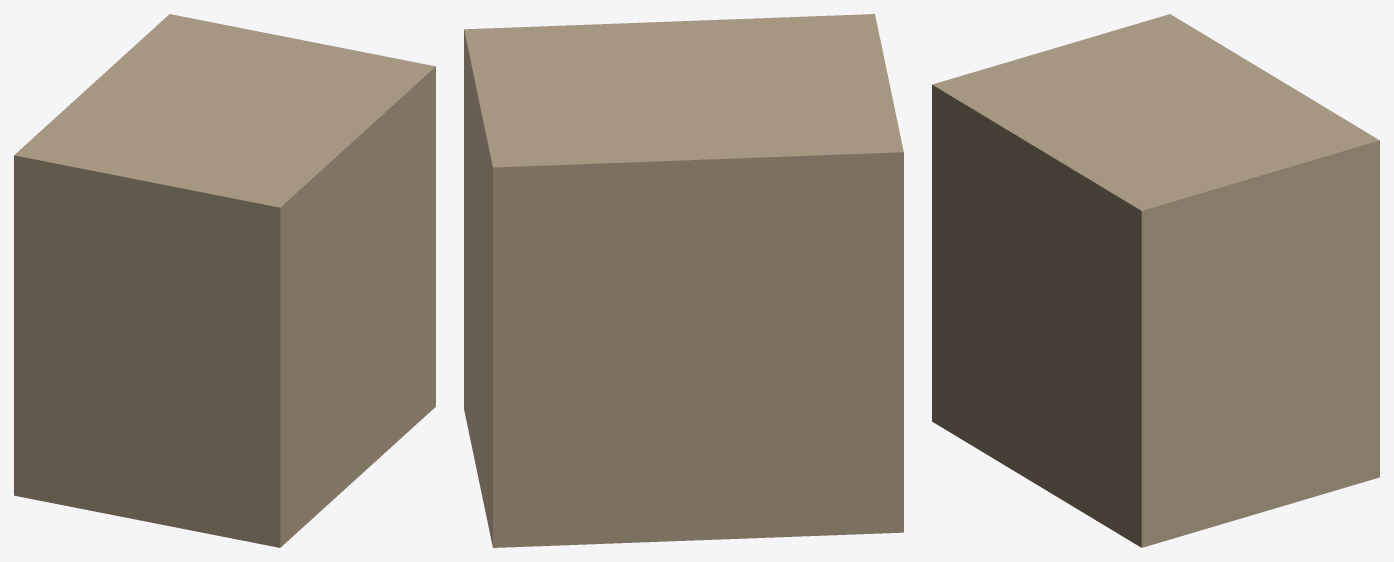
File: bld_101979868.dae
3 views of the same model, side by side, from view 1: azimuth 30°, elevation 25°; view 2: azimuth 150°, elevation 25°; view 3: azimuth 270°, elevation 25° (orthographic). The views are drawn at different scales.
Visible parts, largest first — view 1: bld_101979868; view 2: bld_101979868; view 3: bld_101979868.
Boxes of the visible parts, x1=… form: bld_101979868: x1=14, y1=14, x2=435, y2=547; bld_101979868: x1=464, y1=14, x2=903, y2=547; bld_101979868: x1=932, y1=14, x2=1379, y2=547.
Size of the model in its own units: 10.03 by 9.64 by 8.
